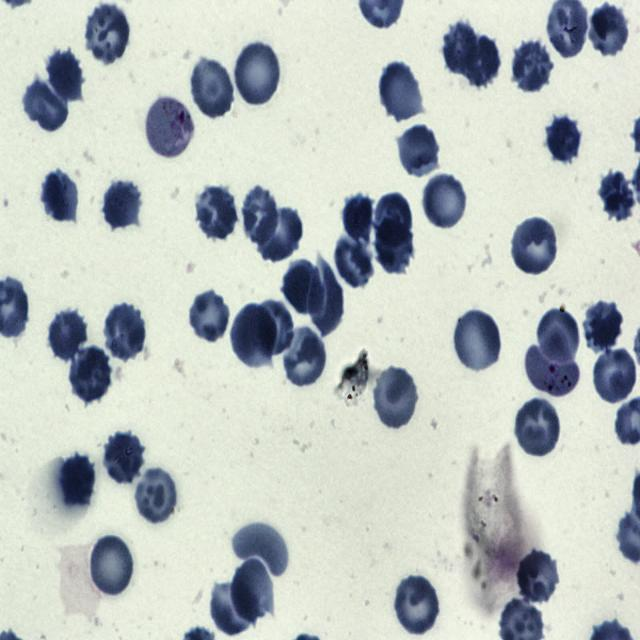red blood cell: (233, 38, 282, 108), (453, 307, 503, 374), (233, 520, 290, 578), (88, 532, 136, 598), (393, 572, 441, 638), (83, 2, 132, 65), (280, 327, 328, 390), (307, 256, 344, 337), (373, 366, 419, 430), (232, 302, 276, 368), (511, 216, 558, 277), (189, 58, 235, 120), (370, 215, 416, 277), (514, 398, 562, 457), (378, 61, 424, 122), (256, 206, 304, 264), (101, 303, 148, 362), (132, 464, 176, 526), (422, 172, 468, 230), (592, 346, 638, 404), (229, 558, 270, 622), (23, 75, 69, 132), (515, 548, 560, 606), (210, 584, 258, 638), (538, 307, 581, 364), (282, 259, 324, 316), (588, 2, 630, 59), (240, 184, 278, 247), (102, 430, 146, 484), (253, 300, 297, 354), (70, 347, 113, 402), (188, 290, 231, 344), (195, 186, 238, 240), (397, 124, 440, 177), (460, 34, 502, 88), (333, 236, 375, 289), (584, 299, 624, 354), (512, 39, 554, 91), (373, 191, 412, 247), (41, 168, 80, 223), (46, 310, 88, 361), (58, 453, 96, 508), (47, 46, 84, 102), (442, 20, 479, 76), (596, 170, 635, 222), (102, 178, 142, 228), (545, 112, 582, 165), (342, 191, 375, 247)
ring: (525, 328, 579, 397), (144, 96, 193, 159)
